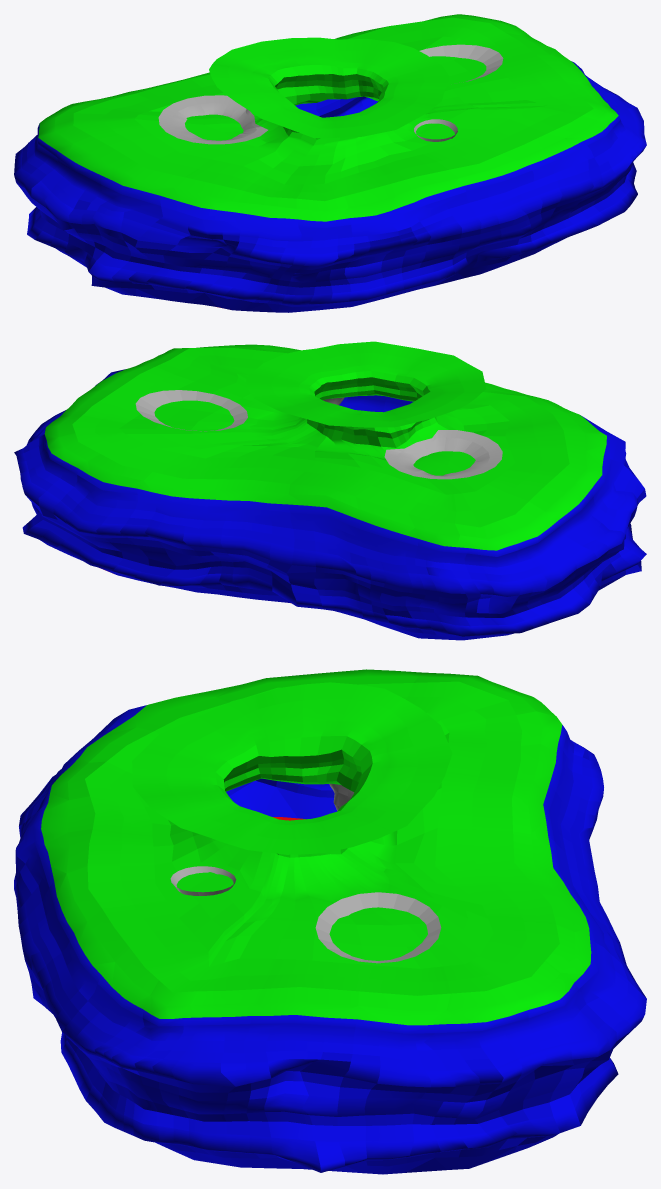
Rendered from Cavern.fbx.
3 views of the same model, one above another, from view 1: azimuth 30°, elevation 25°; view 2: azimuth 150°, elevation 25°; view 3: azimuth 270°, elevation 25° (orthographic). The views are drawn at different scales.
Parts seen in each view (by area): view 1: Walls, Pillar1, Pillar3; view 2: Walls, Pillar1, Pillar3; view 3: Walls, Pillar3, Pillar2.
Boxes of the visible parts, box(x1,y1,x2,y2) form: Walls: box(14, 14, 646, 312); Pillar1: box(158, 95, 267, 144); Pillar3: box(419, 44, 503, 82); Walls: box(14, 341, 646, 640); Pillar1: box(384, 430, 502, 479); Pillar3: box(135, 390, 247, 431); Walls: box(14, 669, 646, 1174); Pillar3: box(315, 892, 441, 963); Pillar2: box(170, 866, 236, 895).
Bounding box in the file's own units: 887 × 270 × 599.
